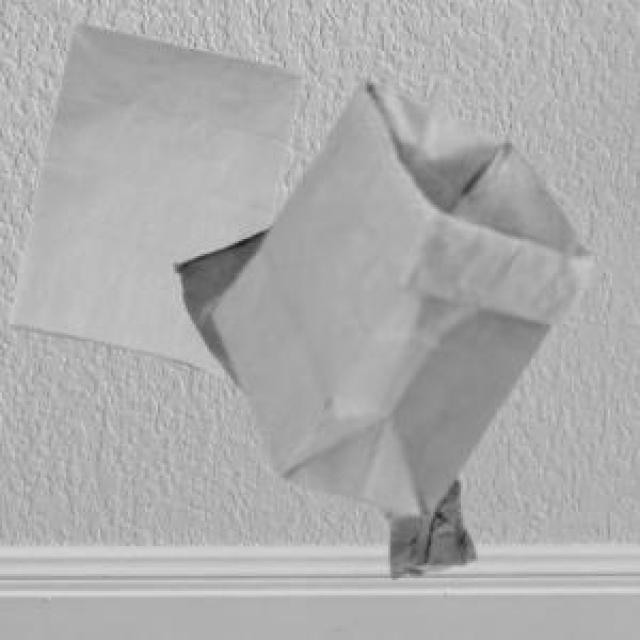paper: (209, 77, 589, 512), (171, 224, 472, 574), (4, 19, 299, 371)
